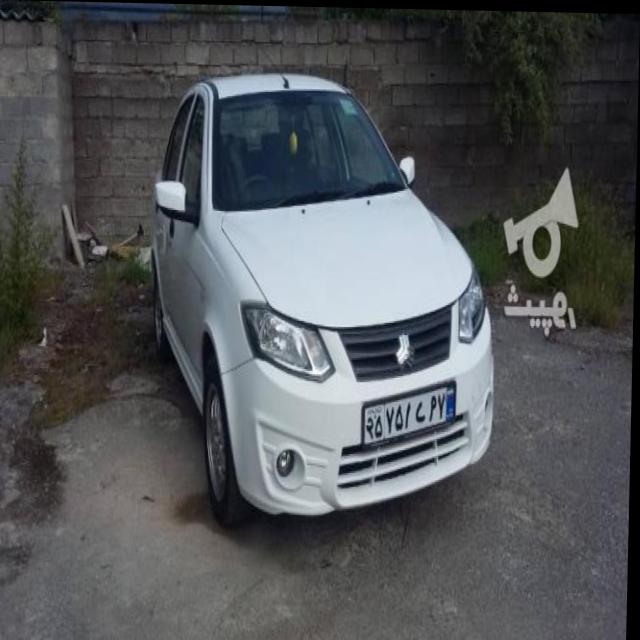licence: (362, 373, 460, 447)
